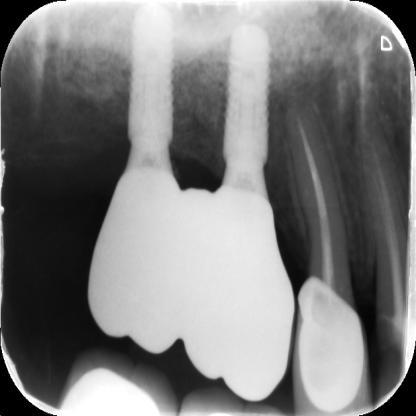ITI: (121, 6, 180, 146), (219, 19, 273, 170)
